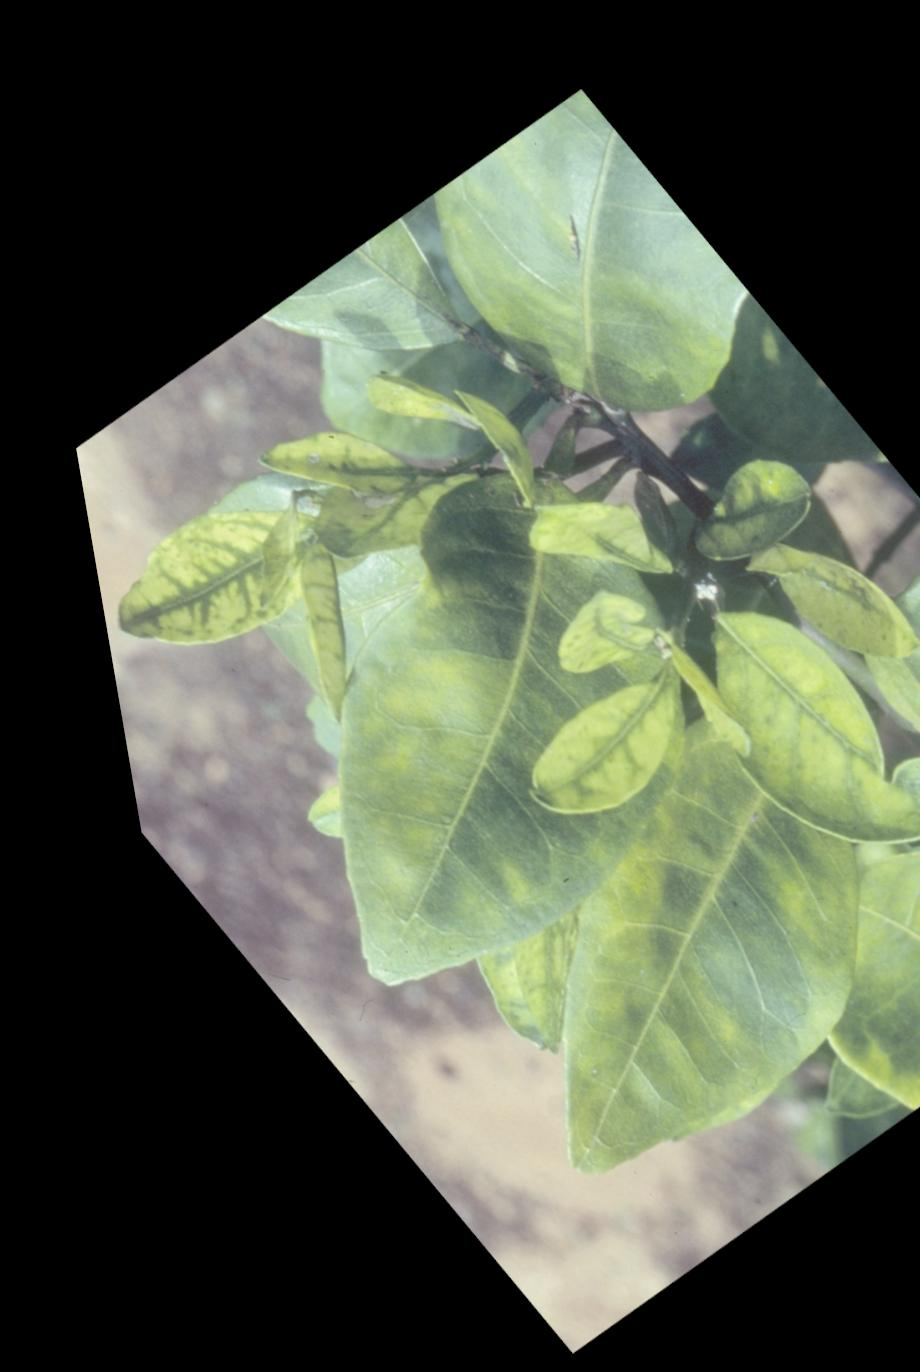Citrus Greening: (610, 524, 920, 887), (60, 445, 334, 701), (455, 642, 704, 849)
